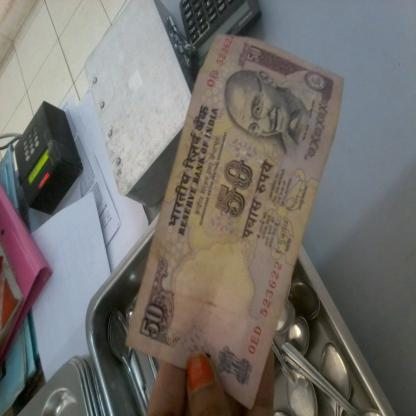Old50Front: (126, 32, 343, 413)
